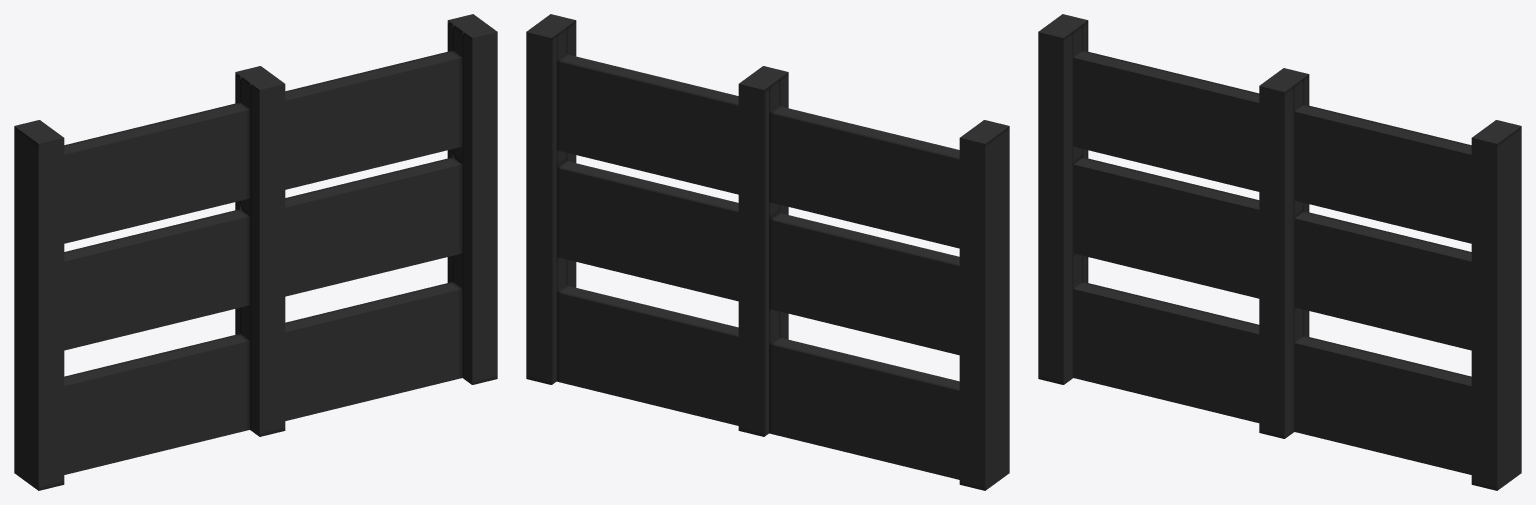
Rendered from murek_1.dae.
The picture shows the model from 3 angles, left to right: view 1: azimuth 30°, elevation 25°; view 2: azimuth 150°, elevation 25°; view 3: azimuth 330°, elevation 25°; orthographic projection.
Parts seen in each view (by area): view 1: Content; view 2: Content; view 3: Content.
Part boxes in pixels (x1,y1,x2,y2): Content: [14, 14, 497, 490]; Content: [526, 14, 1009, 490]; Content: [1038, 14, 1521, 490].
Size of the model in its own units: 54 by 39 by 5.
1 material, 1 textured.
